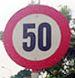Gioi han toc do: (3, 5, 71, 71)
